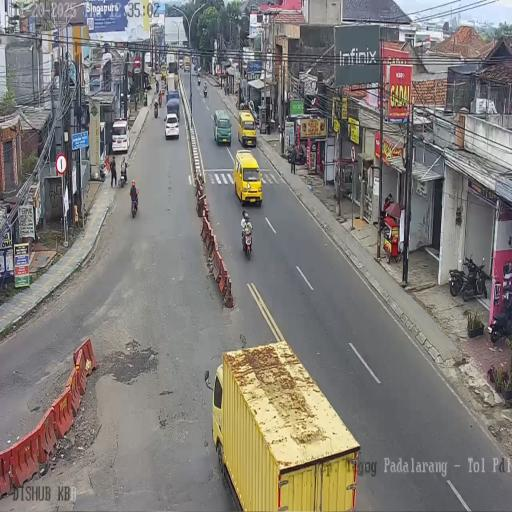car: (234, 151, 262, 208), (237, 109, 257, 148), (110, 118, 129, 155), (213, 109, 231, 146), (164, 112, 179, 140), (160, 64, 167, 79), (178, 58, 184, 70)
motorcycle: (460, 254, 488, 302), (488, 292, 512, 342), (448, 267, 466, 297), (241, 217, 253, 258), (293, 144, 306, 166), (130, 191, 139, 219), (144, 91, 148, 106), (154, 103, 158, 117), (203, 84, 207, 97), (158, 94, 162, 107), (197, 76, 201, 86), (156, 80, 159, 92)
truck: (214, 342, 357, 510), (167, 54, 178, 80), (184, 56, 190, 72)
